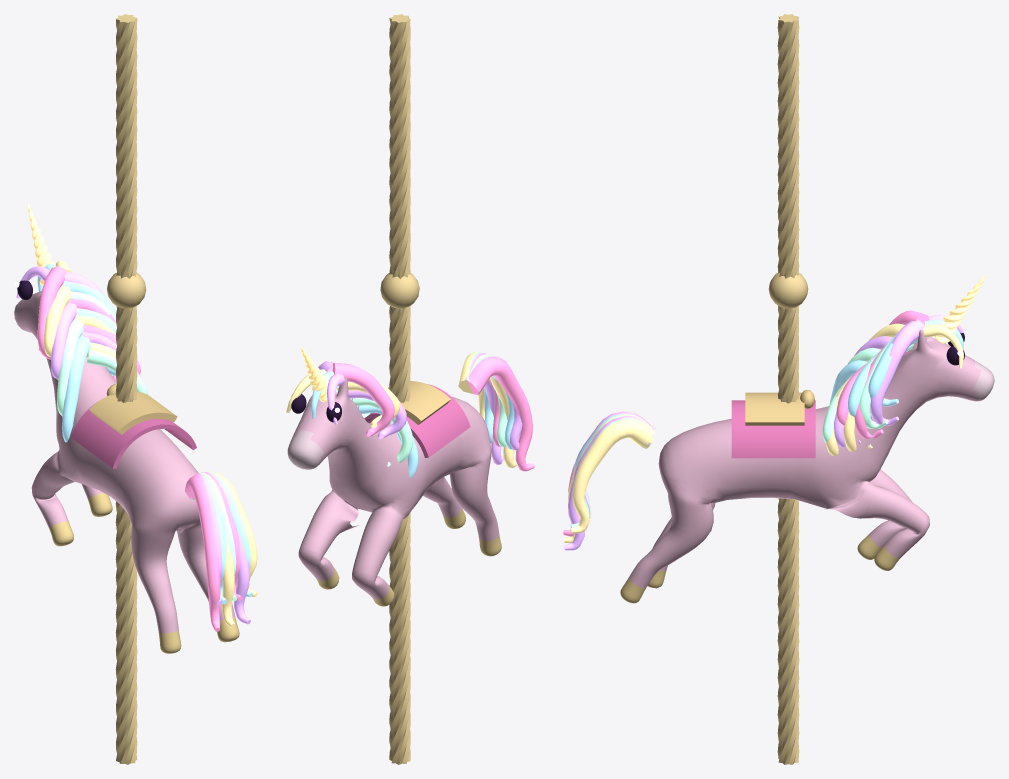
Rendered from carousel_unicorn_pink.glb.
3 renders of one model, left to right at view 1: azimuth 30°, elevation 25°; view 2: azimuth 150°, elevation 25°; view 3: azimuth 270°, elevation 25°, orthographic.
Parts seen in each view (by area): view 1: carousel_unicorn_pink, pole, blanket, saddle; view 2: carousel_unicorn_pink, pole, blanket, saddle; view 3: carousel_unicorn_pink, pole, blanket, saddle.
Boxes of the visible parts, x1,y1,x2,y2 form: carousel_unicorn_pink: [14, 202, 257, 653]; pole: [107, 14, 146, 764]; blanket: [71, 402, 196, 468]; saddle: [89, 383, 177, 434]; carousel_unicorn_pink: [286, 347, 534, 606]; pole: [380, 14, 419, 764]; blanket: [364, 384, 470, 457]; saddle: [388, 381, 450, 424]; carousel_unicorn_pink: [563, 274, 994, 603]; pole: [768, 14, 808, 764]; blanket: [731, 400, 815, 458]; saddle: [745, 389, 814, 425].
Size of the model in its own units: 0.5421 by 4.55 by 2.4.
